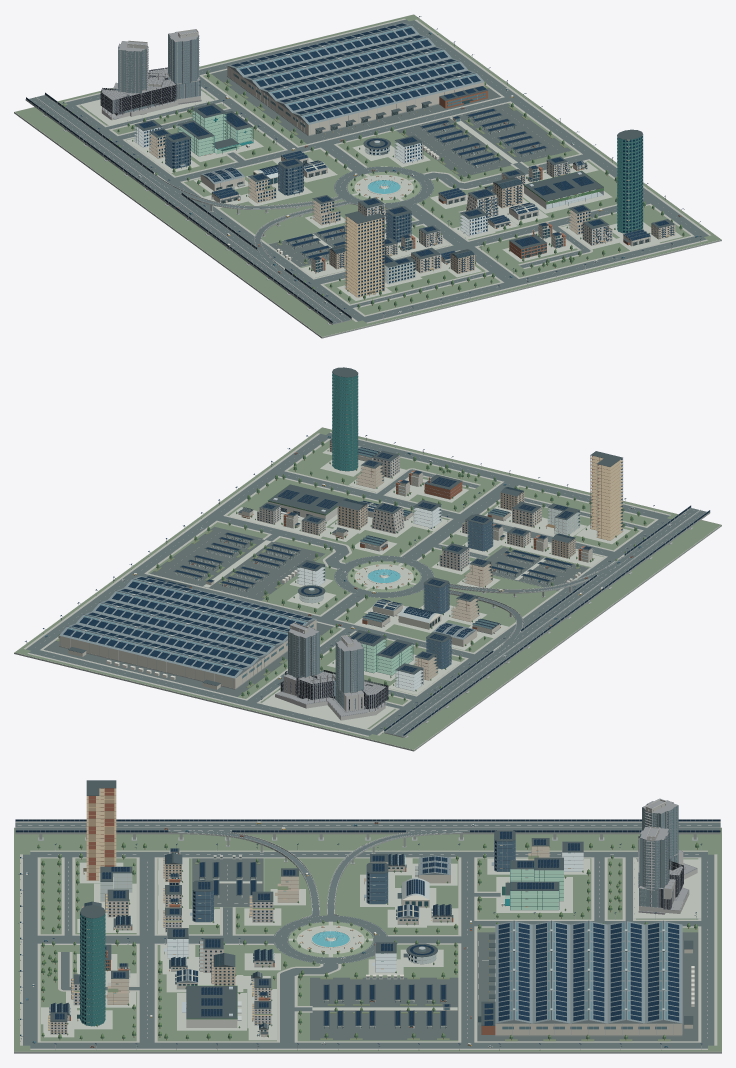
The model's file is park.glb.
The picture shows the model from 3 angles, top to bottom: view 1: azimuth 30°, elevation 25°; view 2: azimuth 150°, elevation 25°; view 3: azimuth 270°, elevation 25°; orthographic projection. The views are drawn at different scales.
Visible parts, largest first — view 1: Park_ground_500_mu, Unified_city_streets, Walkways_and_building_plazas, 12_mega_factory__BUILDING.001, 12_mega_factory__SOLAR.001, Civic_viaduct_ramps_and_roundabout, 13_ev_parking__SITE.001, Civic_bridge_piers_and_guardrails, 10_tower_04__BUILDING.001, CBD_A-GLAZ-CURT_OTHER, CBD_A-FLOR, 10_tower_07__BUILDING.001 (+29 smaller); view 2: Park_ground_500_mu, Unified_city_streets, Walkways_and_building_plazas, 12_mega_factory__BUILDING.001, 12_mega_factory__SOLAR.001, Civic_viaduct_ramps_and_roundabout, 13_ev_parking__SITE.001, Civic_bridge_piers_and_guardrails, CBD_A-WALL, CBD_A-GLAZ-CURT_OTHER, 10_tower_07__BUILDING.001, 10_tower_04__BUILDING.001 (+27 smaller); view 3: Park_ground_500_mu, Walkways_and_building_plazas, Unified_city_streets, 12_mega_factory__BUILDING.001, 12_mega_factory__SOLAR.001, Civic_viaduct_ramps_and_roundabout, 13_ev_parking__SITE.001, Civic_bridge_piers_and_guardrails, 12_mega_factory__SITE.001, Civic_PV_sound_barrier, 10_tower_07__BUILDING.001, 10_tower_04__BUILDING.001 (+32 smaller).
Part boxes in pixels (x1=…): Park_ground_500_mu: x1=14, y1=14, x2=721, y2=338; Unified_city_streets: x1=65, y1=19, x2=708, y2=322; Walkways_and_building_plazas: x1=14, y1=14, x2=721, y2=336; 12_mega_factory__BUILDING.001: x1=227, y1=22, x2=487, y2=136; 12_mega_factory__SOLAR.001: x1=231, y1=23, x2=486, y2=122; Civic_viaduct_ramps_and_roundabout: x1=29, y1=95, x2=433, y2=323; 13_ev_parking__SITE.001: x1=396, y1=103, x2=571, y2=176; Civic_bridge_piers_and_guardrails: x1=25, y1=92, x2=357, y2=324; 10_tower_04__BUILDING.001: x1=344, y1=211, x2=384, y2=297; CBD_A-GLAZ-CURT_OTHER: x1=115, y1=31, x2=200, y2=112; CBD_A-FLOR: x1=101, y1=30, x2=201, y2=119; 10_tower_07__BUILDING.001: x1=617, y1=129, x2=643, y2=233; Park_ground_500_mu: x1=14, y1=427, x2=721, y2=751; Unified_city_streets: x1=26, y1=432, x2=670, y2=735; Walkways_and_building_plazas: x1=14, y1=427, x2=721, y2=749; 12_mega_factory__BUILDING.001: x1=59, y1=575, x2=316, y2=689; 12_mega_factory__SOLAR.001: x1=63, y1=576, x2=312, y2=675; Civic_viaduct_ramps_and_roundabout: x1=334, y1=508, x2=706, y2=736; 13_ev_parking__SITE.001: x1=150, y1=526, x2=325, y2=600; Civic_bridge_piers_and_guardrails: x1=384, y1=505, x2=710, y2=737; CBD_A-WALL: x1=275, y1=622, x2=385, y2=720; CBD_A-GLAZ-CURT_OTHER: x1=285, y1=626, x2=363, y2=709; 10_tower_07__BUILDING.001: x1=332, y1=367, x2=358, y2=471; 10_tower_04__BUILDING.001: x1=590, y1=451, x2=623, y2=540; Park_ground_500_mu: x1=14, y1=828, x2=721, y2=1053; Walkways_and_building_plazas: x1=14, y1=827, x2=721, y2=1051; Unified_city_streets: x1=23, y1=852, x2=714, y2=1048; 12_mega_factory__BUILDING.001: x1=478, y1=920, x2=694, y2=1036; 12_mega_factory__SOLAR.001: x1=484, y1=923, x2=679, y2=1025; Civic_viaduct_ramps_and_roundabout: x1=15, y1=822, x2=720, y2=965; 13_ev_parking__SITE.001: x1=310, y1=977, x2=458, y2=1040; Civic_bridge_piers_and_guardrails: x1=15, y1=819, x2=720, y2=918; 12_mega_factory__SITE.001: x1=477, y1=932, x2=698, y2=1041; Civic_PV_sound_barrier: x1=15, y1=819, x2=720, y2=832; 10_tower_07__BUILDING.001: x1=77, y1=905, x2=105, y2=1026; 10_tower_04__BUILDING.001: x1=83, y1=780, x2=116, y2=880.
Size of what is drawn, in the model's own units: 500 by 114 by 667.
188 materials, 8 textured.
